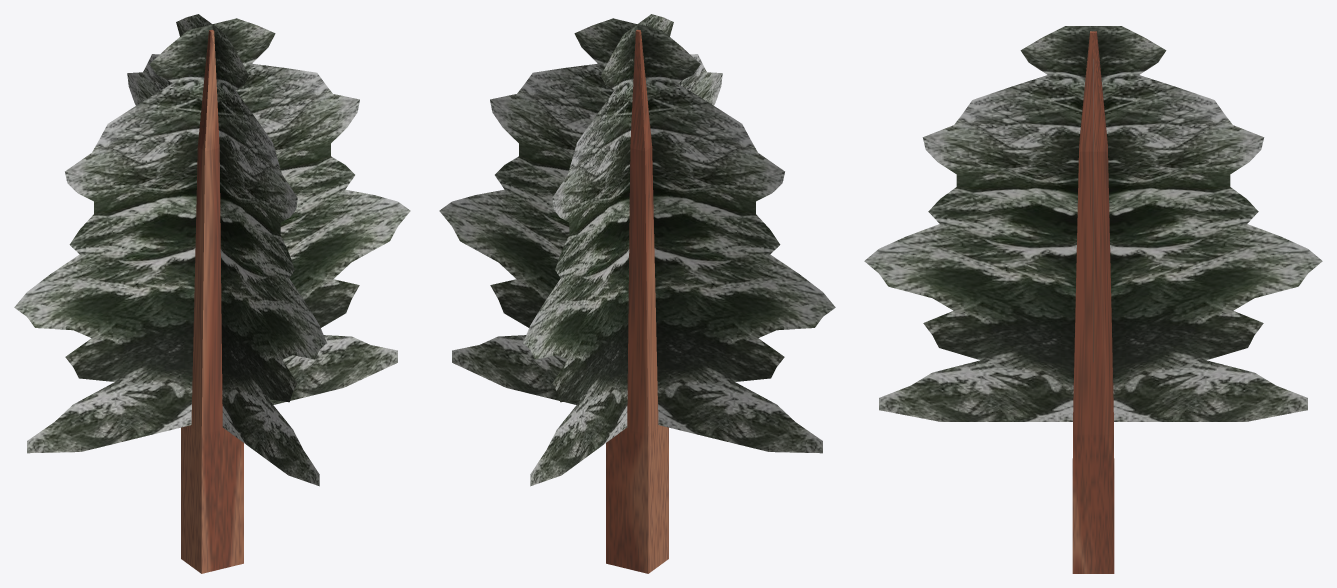
File: bam1von30 (1).fbx
3 views of the same model, side by side, from view 1: azimuth 30°, elevation 25°; view 2: azimuth 150°, elevation 25°; view 3: azimuth 270°, elevation 25° (orthographic).
Parts seen in each view (by area): view 1: Cube.002, Cube.003, Cube.004, Cube, Cube.001; view 2: Cube.002, Cube.001, Cube.004, Cube, Cube.003; view 3: Cube.001, Cube.003, Cube.
Boxes of the visible parts, x1,y1,x2,y2 form: Cube.002: [14, 24, 214, 453]; Cube.003: [212, 25, 326, 486]; Cube.004: [210, 18, 410, 404]; Cube: [181, 29, 243, 573]; Cube.001: [127, 14, 213, 105]; Cube.002: [635, 24, 835, 453]; Cube.001: [523, 23, 638, 486]; Cube.004: [439, 18, 639, 404]; Cube: [606, 29, 668, 573]; Cube.003: [636, 14, 722, 105]; Cube.001: [1091, 26, 1322, 421]; Cube.003: [864, 26, 1095, 421]; Cube: [1072, 31, 1114, 573].
Size of the model in its own units: 298 by 386 by 298.
5 materials, 5 textured.
